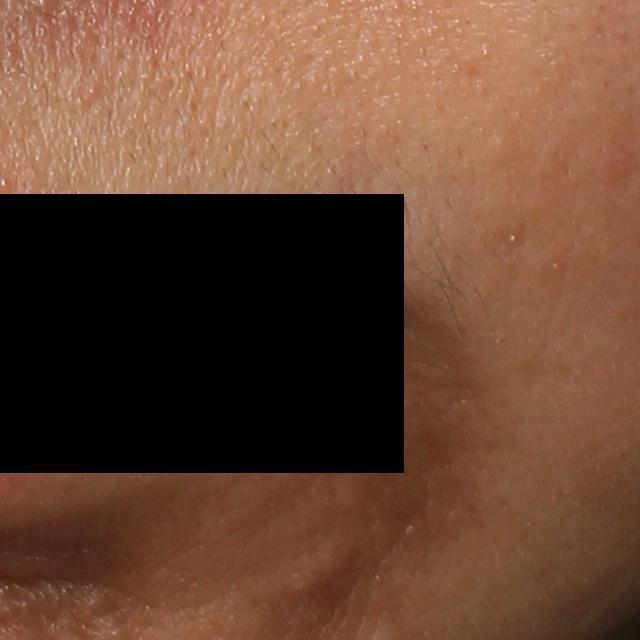hypertrophic_scar: (280, 533, 368, 602)
